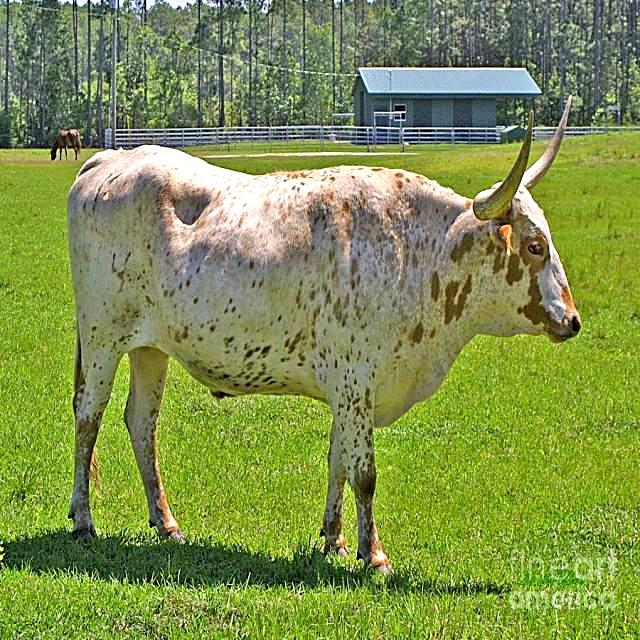COW: (68, 98, 580, 572)
